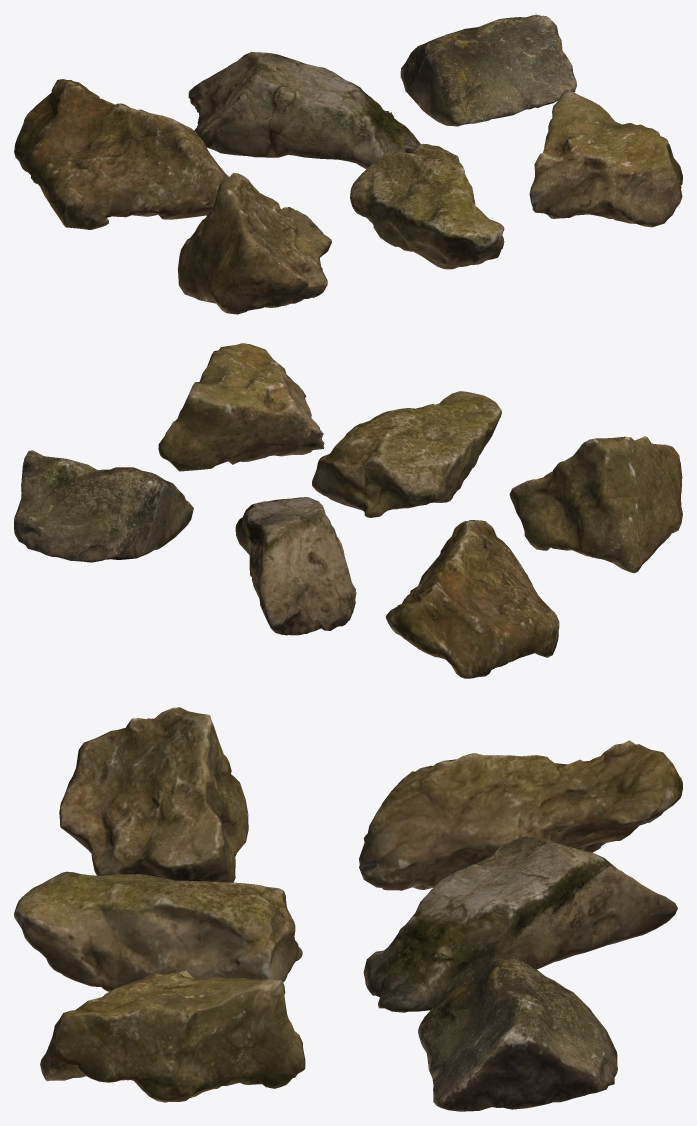
Rendered from rock_moss_set_01.glb.
3 views of the same model, one above another, from view 1: azimuth 30°, elevation 25°; view 2: azimuth 150°, elevation 25°; view 3: azimuth 270°, elevation 25° (orthographic). The views are drawn at different scales.
Parts seen in each view (by area): view 1: rock_moss_set_01_rock01, rock_moss_set_01_rock02, rock_moss_set_01_rock06, rock_moss_set_01_rock04, rock_moss_set_01_rock03, rock_moss_set_01_rock05; view 2: rock_moss_set_01_rock04, rock_moss_set_01_rock01, rock_moss_set_01_rock05, rock_moss_set_01_rock03, rock_moss_set_01_rock06, rock_moss_set_01_rock02; view 3: rock_moss_set_01_rock01, rock_moss_set_01_rock02, rock_moss_set_01_rock05, rock_moss_set_01_rock04, rock_moss_set_01_rock06, rock_moss_set_01_rock03.
Boxes of the visible parts, x1=… form: rock_moss_set_01_rock01: x1=14, y1=79, x2=228, y2=229; rock_moss_set_01_rock02: x1=188, y1=51, x2=420, y2=169; rock_moss_set_01_rock06: x1=529, y1=90, x2=682, y2=227; rock_moss_set_01_rock04: x1=178, y1=172, x2=331, y2=314; rock_moss_set_01_rock03: x1=400, y1=14, x2=576, y2=126; rock_moss_set_01_rock05: x1=350, y1=144, x2=504, y2=269; rock_moss_set_01_rock04: x1=509, y1=436, x2=682, y2=573; rock_moss_set_01_rock01: x1=385, y1=520, x2=559, y2=678; rock_moss_set_01_rock05: x1=312, y1=391, x2=501, y2=517; rock_moss_set_01_rock03: x1=14, y1=450, x2=193, y2=562; rock_moss_set_01_rock06: x1=158, y1=343, x2=324, y2=471; rock_moss_set_01_rock02: x1=235, y1=497, x2=356, y2=635; rock_moss_set_01_rock01: x1=359, y1=740, x2=682, y2=890; rock_moss_set_01_rock02: x1=363, y1=836, x2=677, y2=1012; rock_moss_set_01_rock05: x1=14, y1=871, x2=302, y2=991; rock_moss_set_01_rock04: x1=59, y1=707, x2=248, y2=882; rock_moss_set_01_rock06: x1=40, y1=970, x2=305, y2=1102; rock_moss_set_01_rock03: x1=418, y1=956, x2=617, y2=1111.
Bounding box in the file's own units: 8 × 1.76 × 6.94.
1 material, 1 textured.
